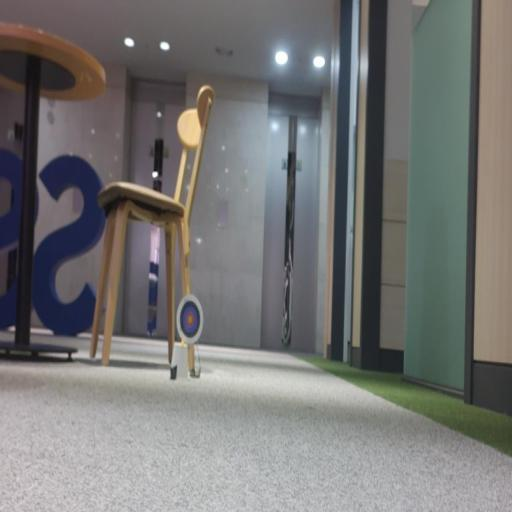target: (177, 294, 203, 344)
